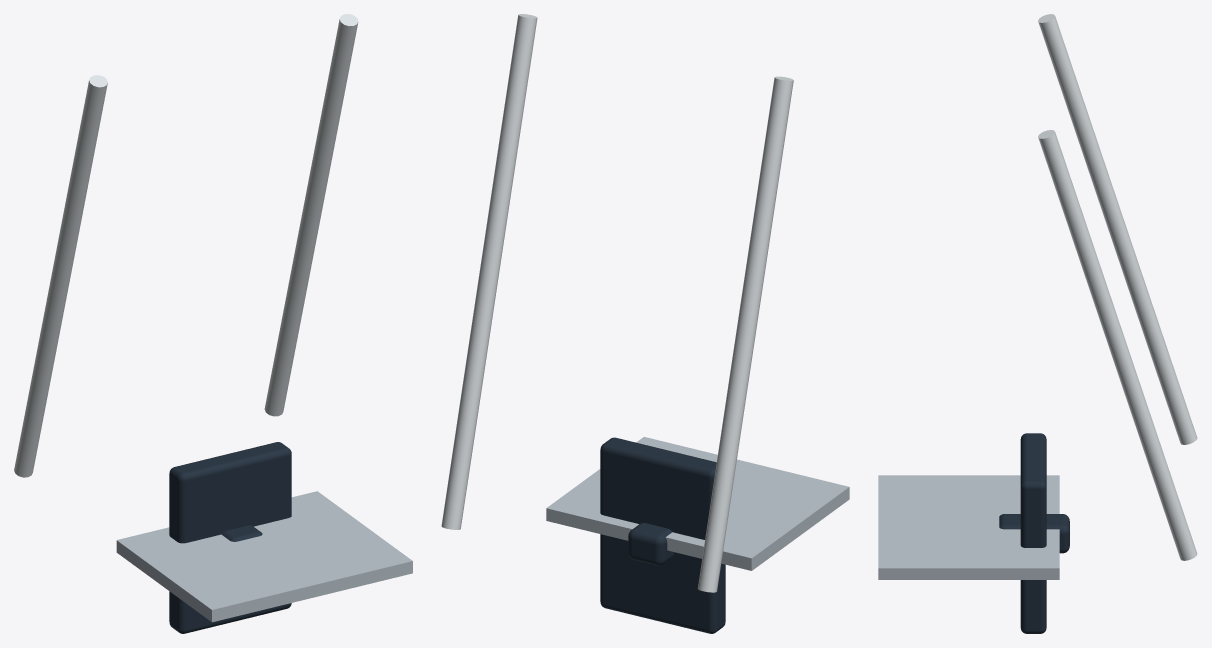
Rendered from hack_squat.glb.
3 views of the same model, side by side, from view 1: azimuth 30°, elevation 25°; view 2: azimuth 150°, elevation 25°; view 3: azimuth 270°, elevation 25° (orthographic). The views are drawn at different scales.
Visible parts, largest first — view 1: platform, slideRail (×2), movingBack; view 2: slideRail (×2), movingBack, platform, LshoulderPad; view 3: platform, slideRail (×2), movingBack, LshoulderPad.
Boxes of the visible parts, left/top/right/bottom form: platform: left=116, top=491, right=412, bottom=622; slideRail (×2): left=14, top=14, right=358, bottom=477; movingBack: left=169, top=442, right=291, bottom=633; slideRail (×2): left=441, top=14, right=793, bottom=592; movingBack: left=600, top=437, right=725, bottom=633; platform: left=546, top=437, right=849, bottom=570; LshoulderPad: left=628, top=523, right=674, bottom=565; platform: left=878, top=475, right=1059, bottom=579; slideRail (×2): left=1038, top=14, right=1197, bottom=560; movingBack: left=1020, top=433, right=1046, bottom=633; LshoulderPad: left=999, top=514, right=1069, bottom=553.
Bounding box in the file's own units: 1.13 × 2.29 × 1.23.
